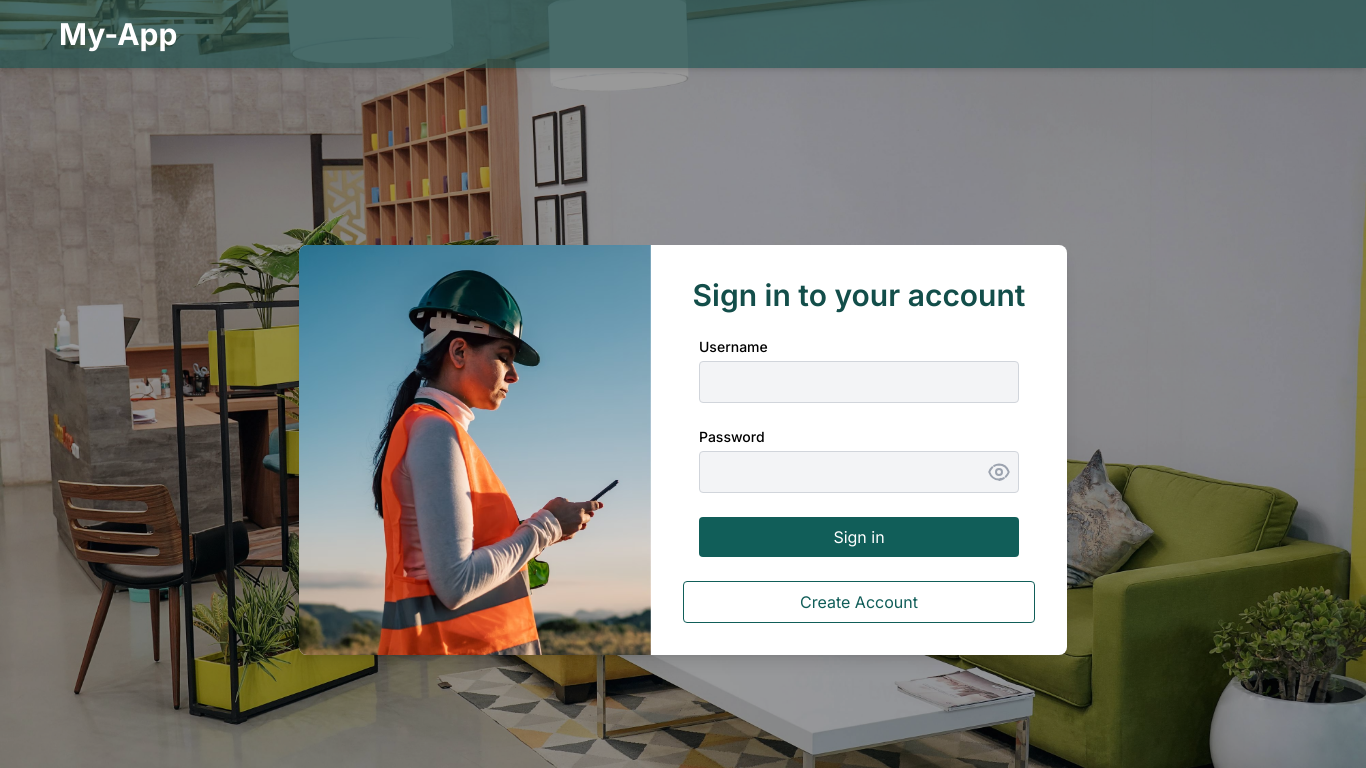
Test case: LoginPage › shows error message on login failure - incorrect password
Type "username" into the field labelled "Username" at coordinates (859, 382), box left=699, top=361, right=1019, bottom=403
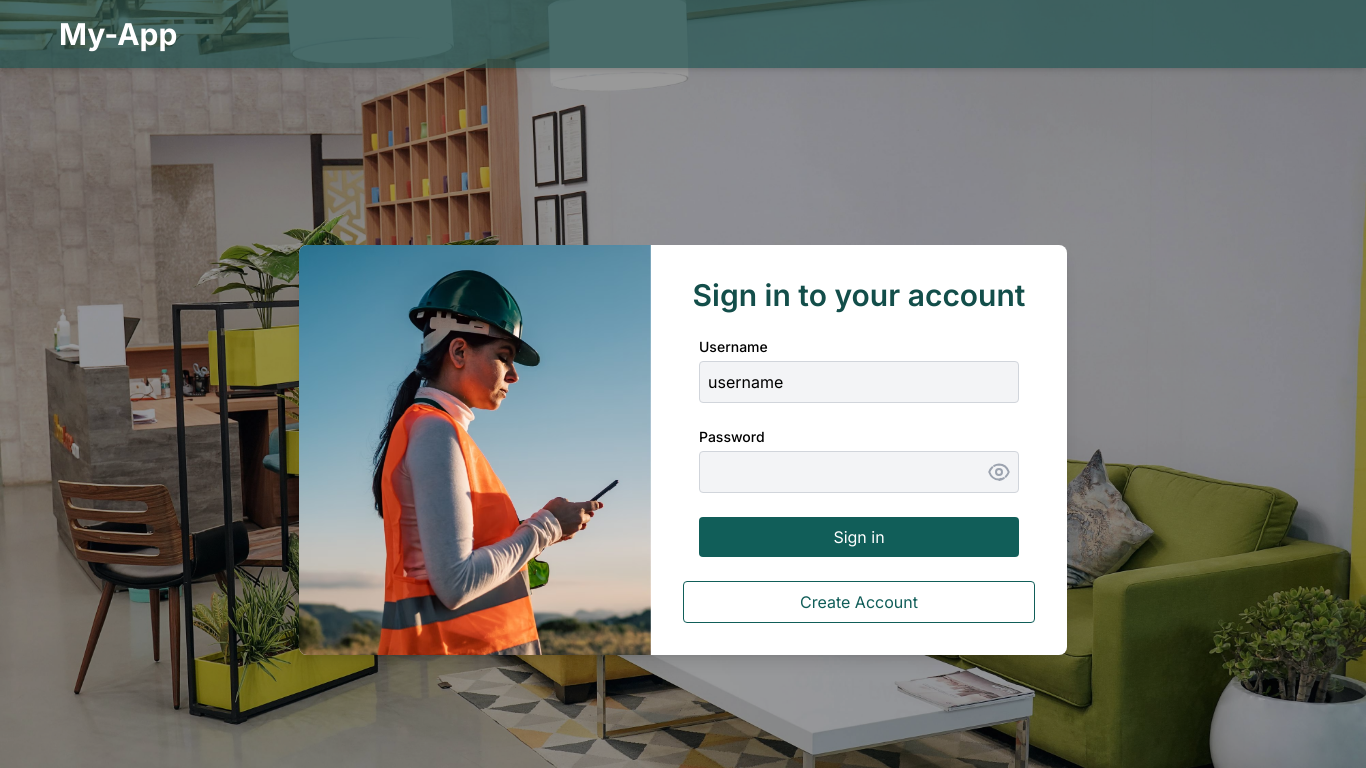
Type "password123" into the password field labelled "Password" at coordinates (859, 472), box left=699, top=451, right=1019, bottom=493
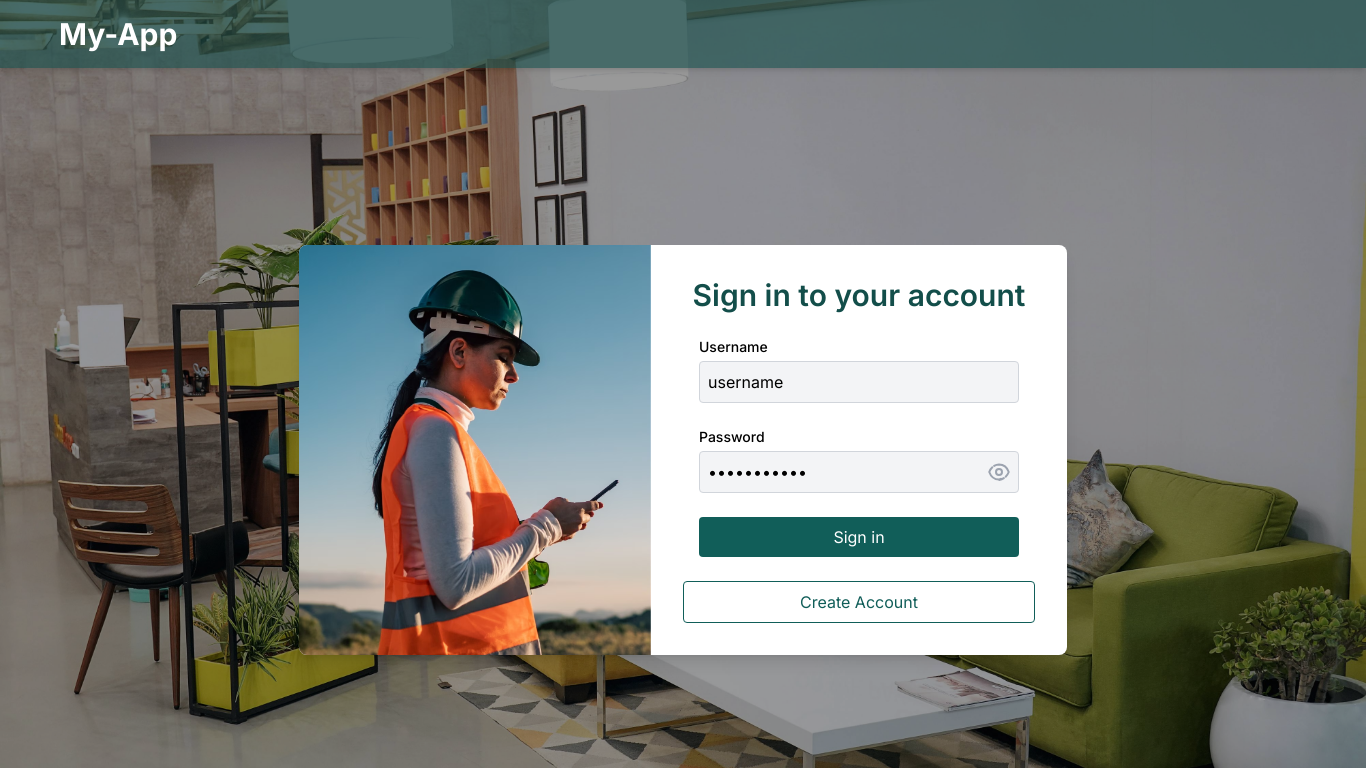
Click the button "Sign in" at coordinates (859, 537), box left=699, top=517, right=1019, bottom=557
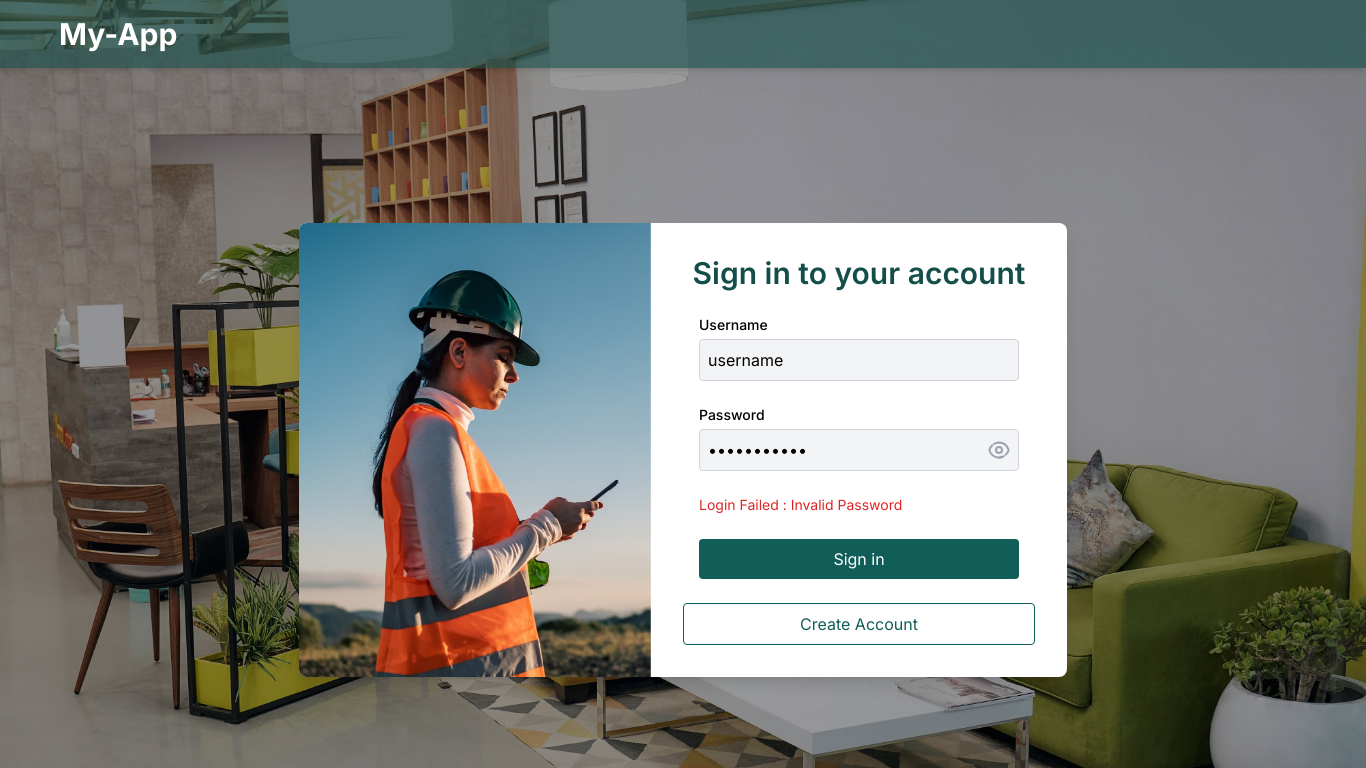
Expected: the text "Login Failed : Invalid Password" is shown, left=699, top=496, right=902, bottom=513
